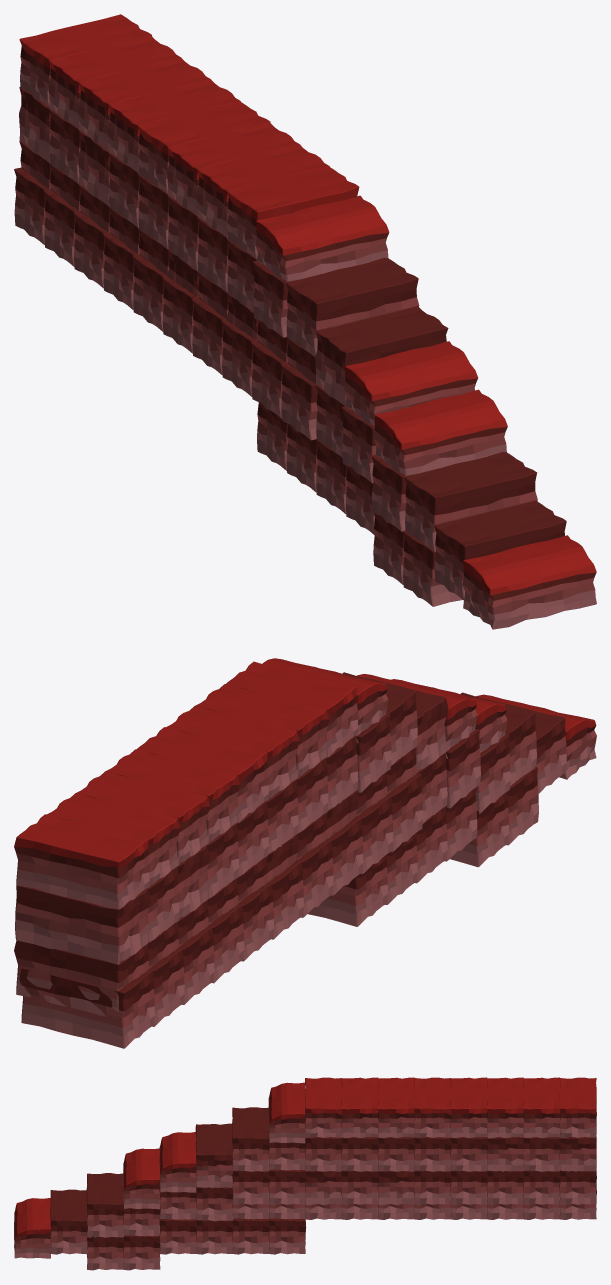
File: soulpath.fbx
3 renders of one model, top to bottom at view 1: azimuth 30°, elevation 25°; view 2: azimuth 150°, elevation 25°; view 3: azimuth 270°, elevation 25°, orthographic. The views are drawn at different scales.
Parts seen in each view (by area): view 1: Cube.210, Cube.219, Cube.212, Cube.211, Cube.218, Cube.216, Cube.217, Cube.086, Cube.231, Cube.235, Cube.232, Cube.233 (+40 smaller); view 2: Cube.238, Cube.258, Cube.262, Cube.260, Cube.234, Cube.231, Cube.235, Cube.232, Cube.236, Cube.233, Cube.237, Cube.230 (+42 smaller); view 3: Cube.086, Cube.211, Cube.218, Cube.217, Cube.238, Cube.235, Cube.232, Cube.231, Cube.234, Cube.236, Cube.233, Cube.237 (+42 smaller).
Part boxes in pixels (x1,y1,x2,y2): Cube.210: (462,535,596,629); Cube.219: (255,195,389,281); Cube.212: (373,389,507,475); Cube.211: (405,452,537,552); Cube.218: (286,258,419,356); Cube.216: (344,341,478,426); Cube.217: (315,306,448,406); Cube.086: (434,500,566,600); Cube.231: (226,166,359,259); Cube.235: (107,79,240,172); Cube.232: (196,144,329,237); Cube.233: (167,122,298,215); Cube.238: (14,814,149,909); Cube.258: (15,885,150,964); Cube.262: (19,967,154,1048); Cube.260: (14,940,149,1016); Cube.234: (136,727,268,822); Cube.231: (226,661,358,757); Cube.235: (106,749,239,843); Cube.232: (195,684,329,778); Cube.236: (76,771,209,865); Cube.233: (166,706,299,799); Cube.237: (47,793,180,887); Cube.230: (308,855,387,926); Cube.086: (50,1189,87,1254); Cube.211: (86,1173,124,1237); Cube.218: (232,1107,269,1171); Cube.217: (195,1123,232,1188); Cube.238: (559,1077,596,1137); Cube.235: (450,1077,487,1138); Cube.232: (341,1077,378,1138); Cube.231: (305,1077,342,1137); Cube.234: (414,1077,451,1137); Cube.236: (486,1077,523,1138); Cube.233: (377,1077,414,1138); Cube.237: (523,1077,559,1138).
Bounding box in the file's own units: 434 × 995 × 3208.
